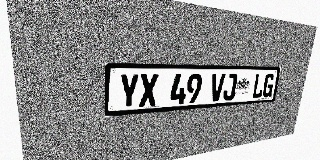4: (170, 74, 188, 105)
9: (186, 73, 203, 103)
G: (262, 73, 275, 98)
J: (222, 73, 238, 101)
L: (251, 73, 265, 98)
V: (209, 73, 225, 102)
X: (139, 74, 158, 107)
Y: (119, 74, 139, 109)
